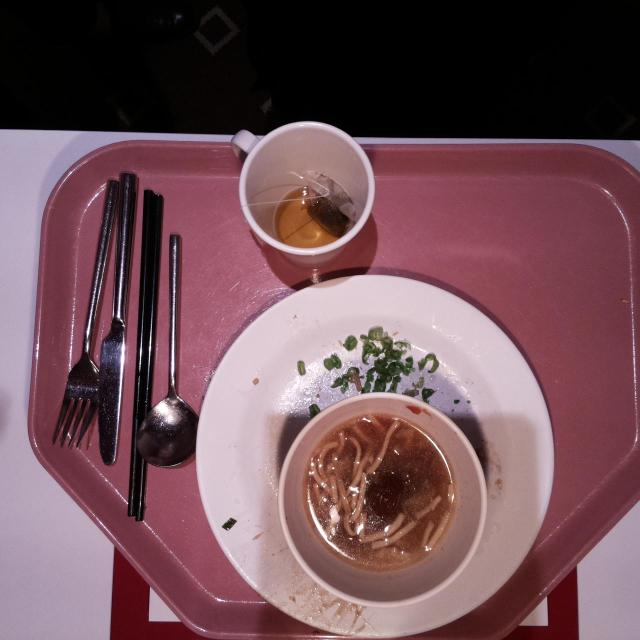Noodle: (308, 428, 393, 550)
